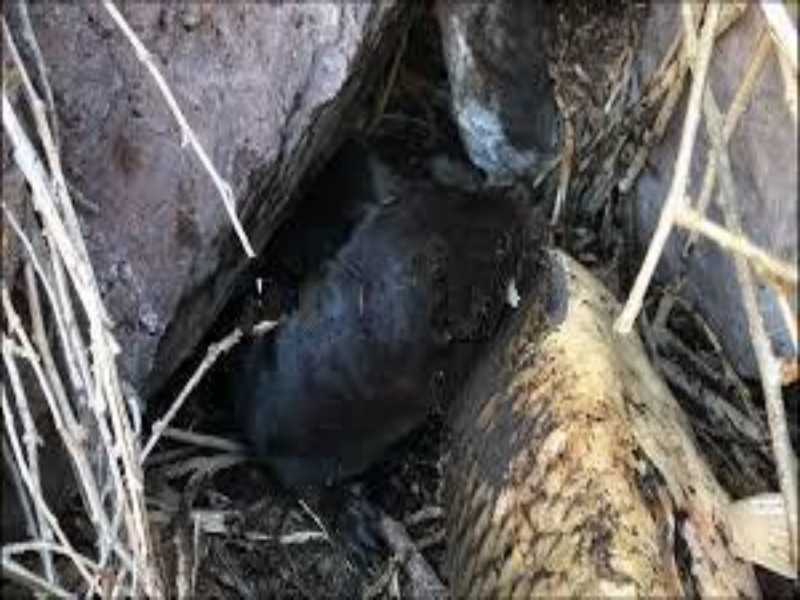minkish: (226, 142, 524, 521)
